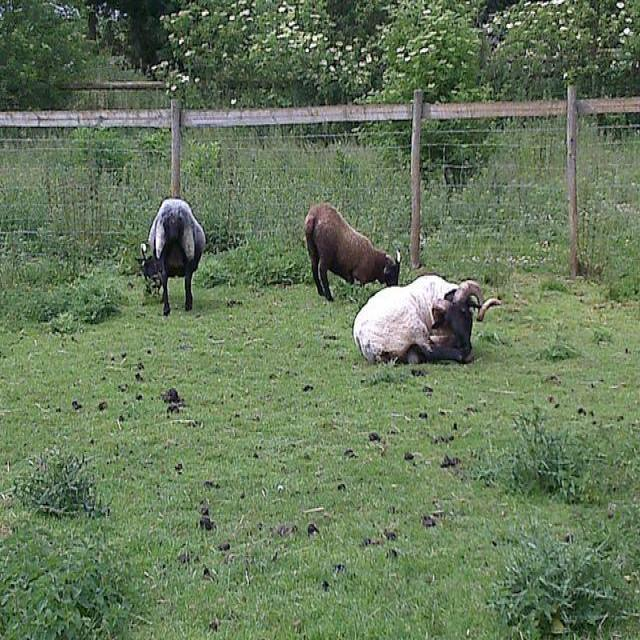Sheep: (353, 275, 503, 364), (304, 201, 402, 303), (134, 195, 207, 320)
